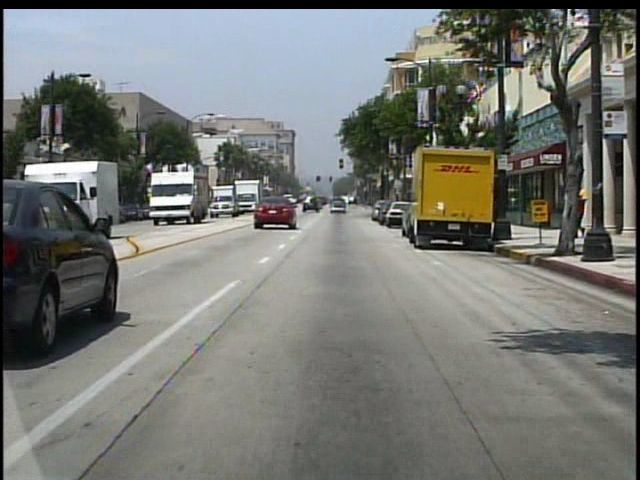person: (572, 181, 588, 238)
